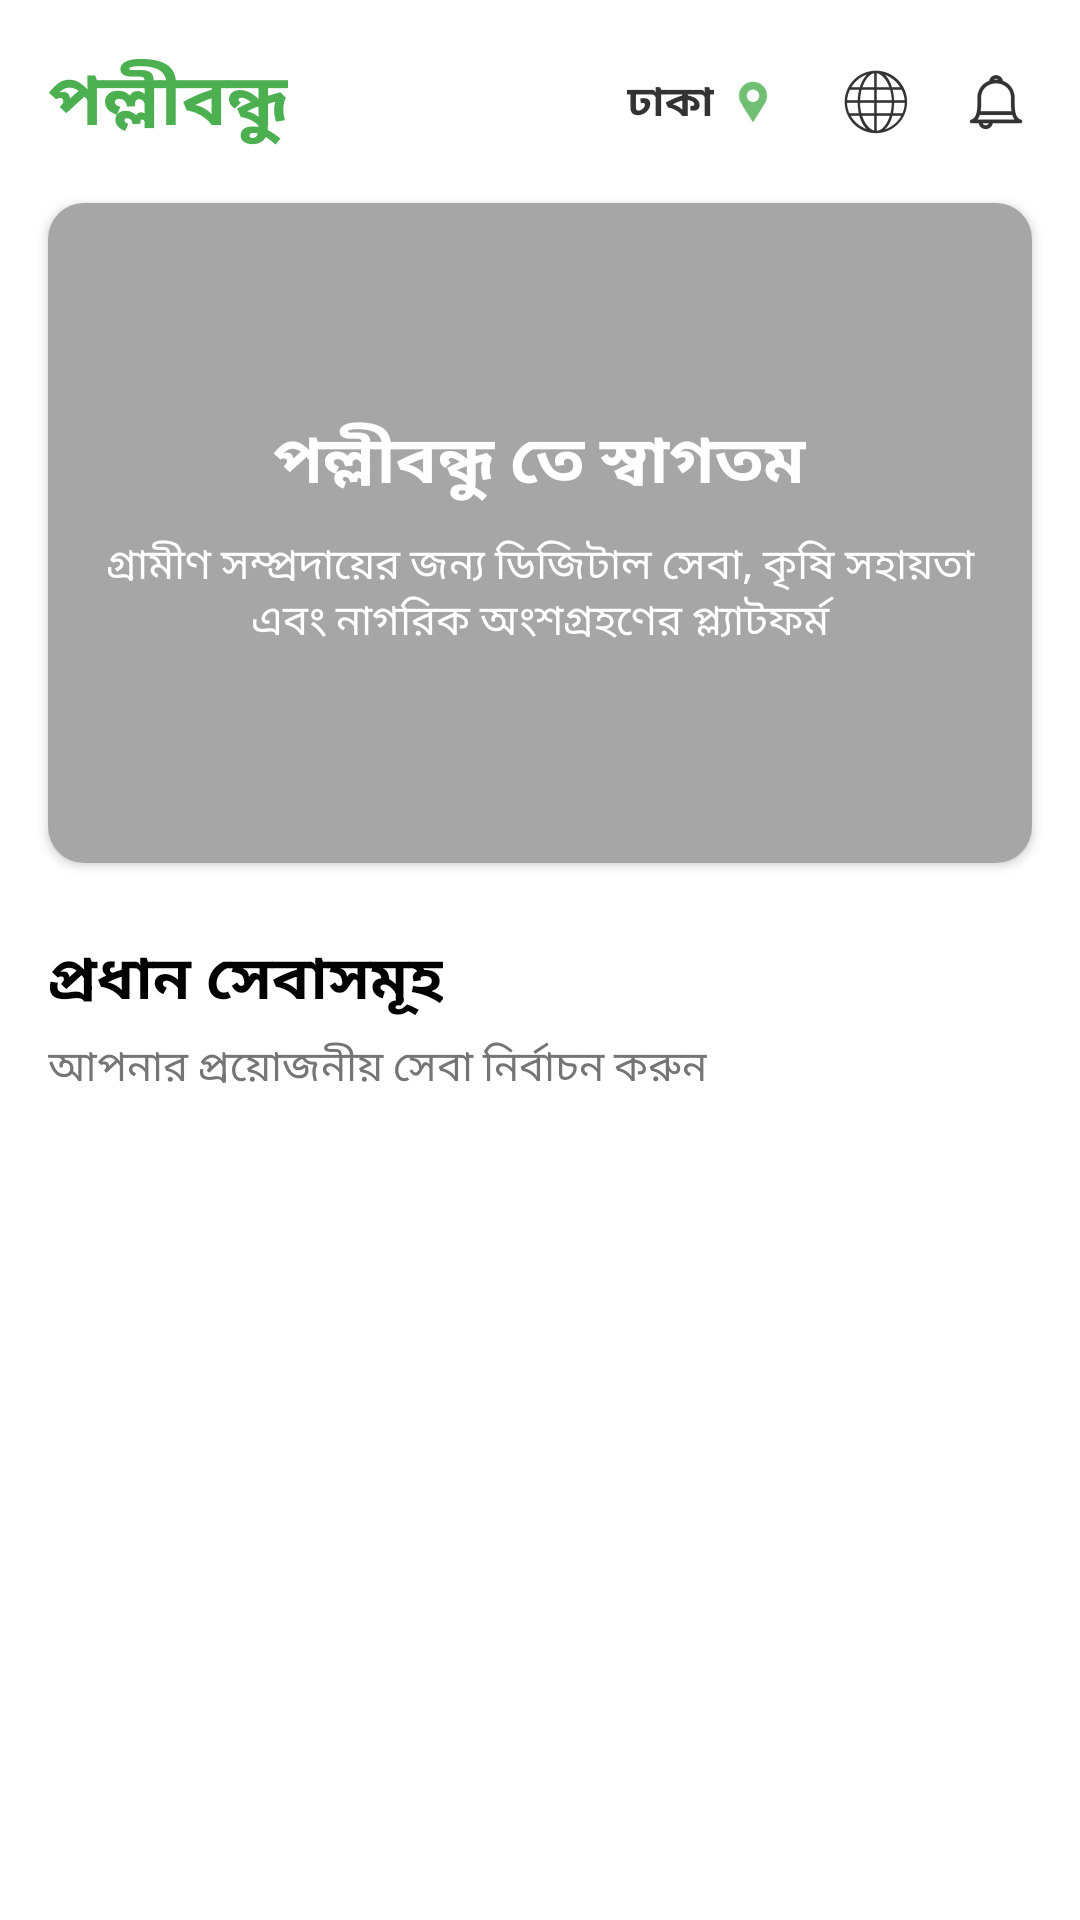

Icon bounding boxes for this 1080 × 1920 phone screenshot, format (x1, y1, x2, y2):
language: (844, 70, 907, 134)
location on: (739, 81, 767, 122)
notifications: (969, 75, 1023, 129)
